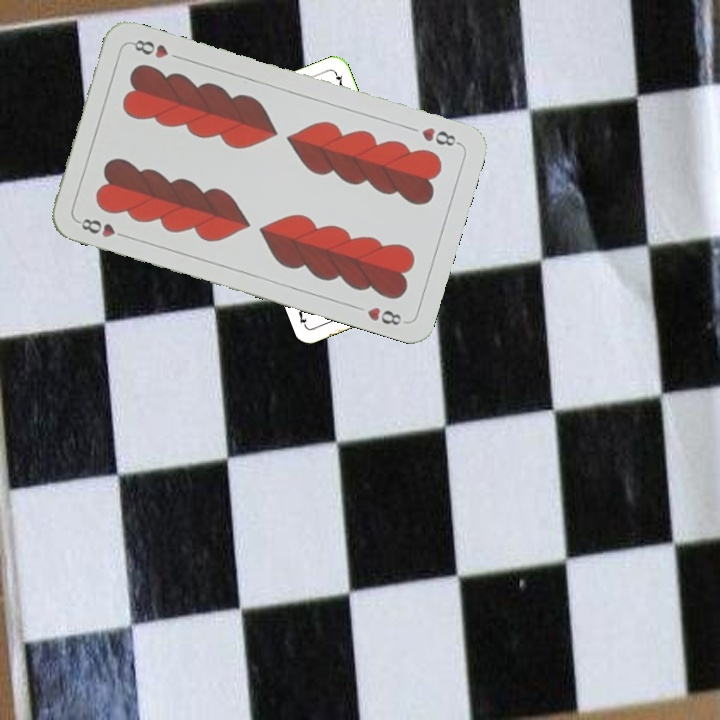H8: (73, 214, 131, 241), (417, 123, 463, 149)
